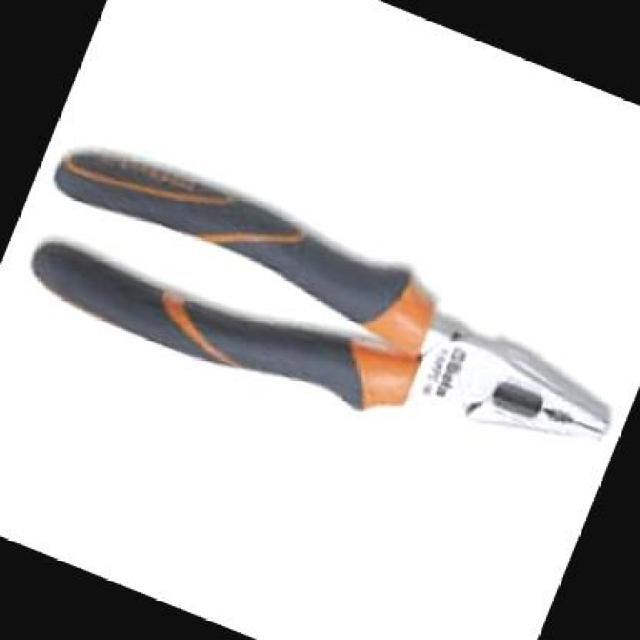pliers: (0, 84, 638, 540)
